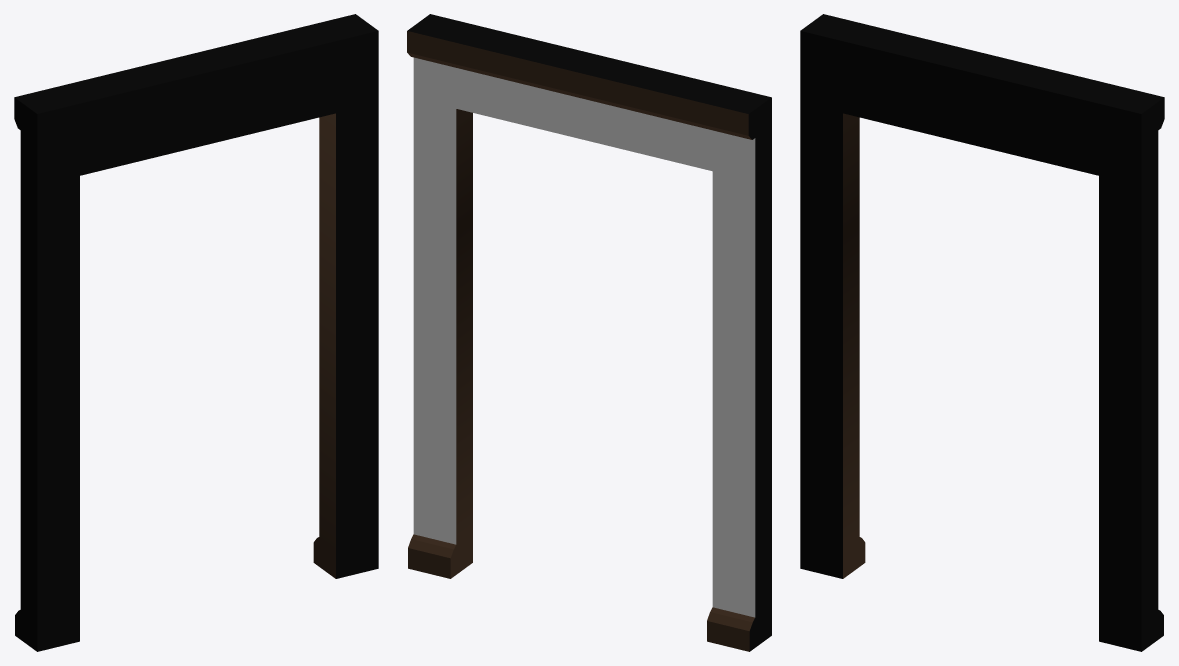
The model's file is Wall_2_DoorFrame.fbx.
The picture shows the model from 3 angles, left to right: view 1: azimuth 30°, elevation 25°; view 2: azimuth 150°, elevation 25°; view 3: azimuth 330°, elevation 25°; orthographic projection.
Visible parts, largest first — view 1: Cube.178; view 2: Cube.178; view 3: Cube.178.
Boxes of the visible parts, <box> form: Cube.178: <box>14,14,378,651</box>; Cube.178: <box>407,14,771,651</box>; Cube.178: <box>800,14,1164,651</box>.
Size of the model in its own units: 0.2334 by 2 by 3.01.
